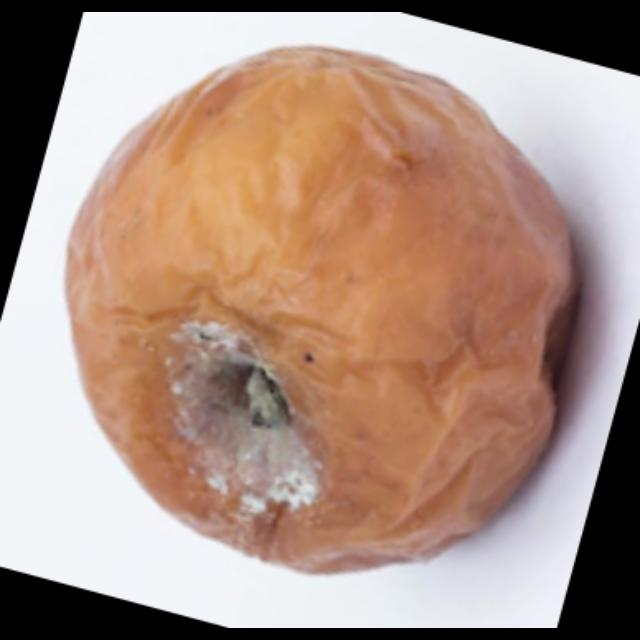Apel Tidak Segar: (66, 39, 582, 606)
